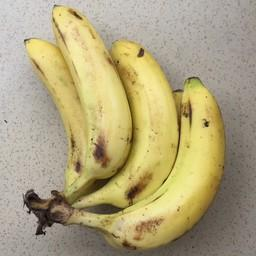Banana Ripe: (108, 17, 233, 256), (51, 3, 134, 216), (17, 26, 90, 238), (107, 32, 177, 217)
